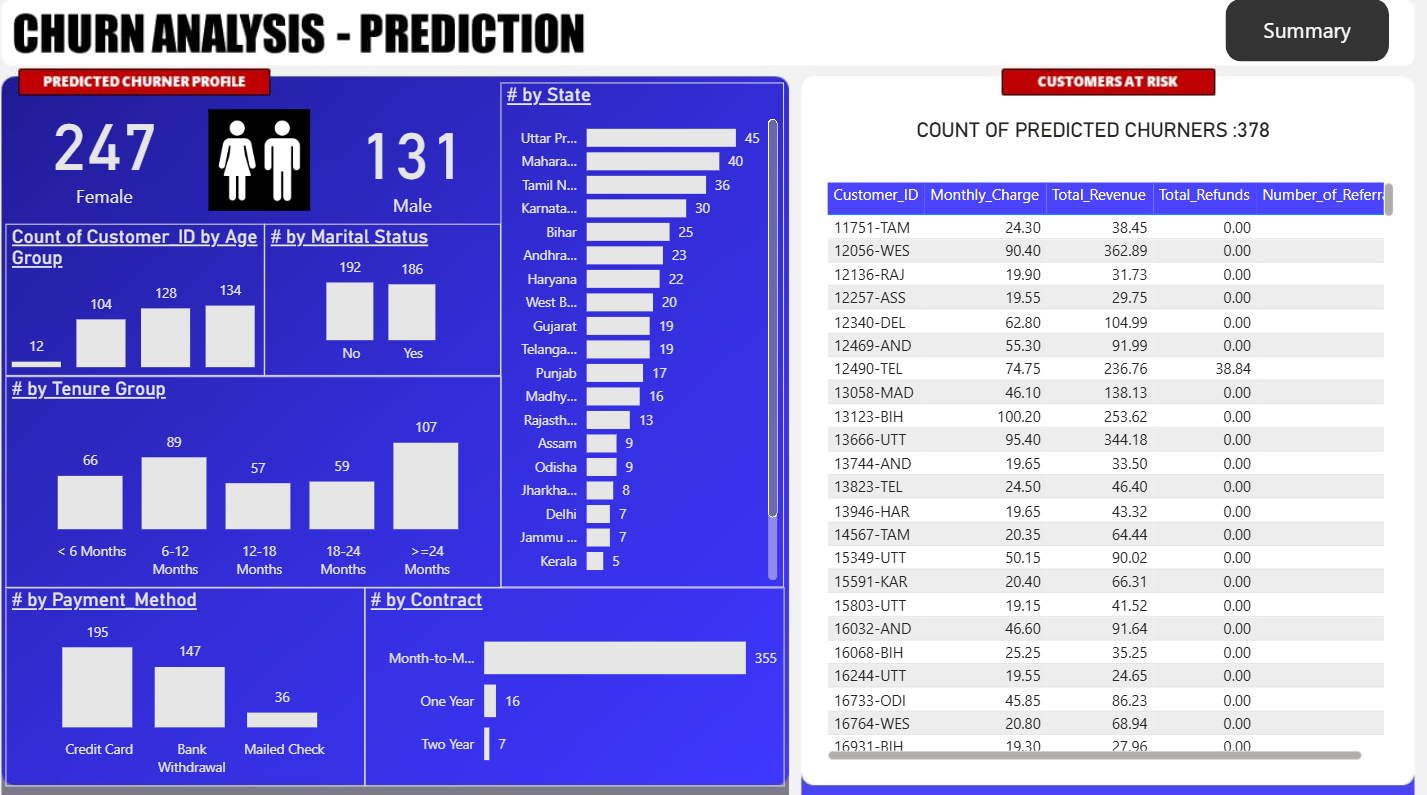

The page's visual inventory and layout, read from the dashboard file:
{"tool":"powerbi","page":{"name":"churn_prediction","canvas":[1280,720],"ordinal":1},"visuals":[{"type":"tableEx","fields":{"Values":["Prediction_data.Customer_ID","Prediction_data.Monthly_Charge","Prediction_data.Total_Revenue","Prediction_data.Total_Refunds","Prediction_data.Number_of_Referrals"]},"box":[725.6,151.2,544.2,553.5],"z":0},{"type":"card","fields":{"Values":["tbl_Measures.Title Predicted Churner"]},"box":[752.3,93,460.5,62.8],"z":1000},{"type":"card","fields":{"Values":["tbl_Measures.Count Predicted Churner"]},"box":[23.3,86,160.5,115.1],"z":2000},{"type":"card","fields":{"Values":["tbl_Measures.Count Predicted Churner"]},"box":[298.8,93,157,115.1],"z":3000},{"type":"clusteredColumnChart","fields":{"Category":["mapping_AgeGroup.Age Group"],"Y":["CountNonNull(Prediction_data.Customer_ID)"]},"box":[15.1,208.1,230.2,134.9],"z":4000},{"type":"clusteredColumnChart","fields":{"Y":["CountNonNull(Prediction_data.Customer_ID)"],"Category":["Prediction_data.Married"]},"box":[245.3,208.1,210.5,134.9],"z":5000},{"type":"clusteredColumnChart","fields":{"Y":["CountNonNull(Prediction_data.Customer_ID)"],"Category":["mapping_TenureGrp.Tenure Group"]},"box":[15.1,343,440.7,188.4],"z":6000},{"type":"clusteredColumnChart","fields":{"Y":["CountNonNull(Prediction_data.Customer_ID)"],"Category":["Prediction_data.Payment_Method"]},"box":[15.1,531.4,319.8,176.7],"z":7000},{"type":"clusteredBarChart","fields":{"Category":["Prediction_data.State"],"Y":["CountNonNull(Prediction_data.State)"]},"box":[455.8,82.6,252.3,448.8],"z":8000},{"type":"clusteredBarChart","fields":{"Category":["Prediction_data.Contract"],"Y":["CountNonNull(Prediction_data.Customer_ID)"]},"box":[334.9,531.4,373.3,176.7],"z":9000},{"type":"image","box":[91.3,101.2,300,100],"z":9001},{"type":"shape","box":[1100,8.1,145.3,55.8],"z":9002}]}

Visuals, with their boxes in screenshot pixels (x1, y1, x2, y2), scaled from the page's 1280x720 canvas onto the 1427x795 screenshot:
tableEx - Prediction_data.Customer_ID x Prediction_data.Monthly_Charge: (809, 167, 1416, 778)
card - tbl_Measures.Title Predicted Churner: (839, 103, 1352, 172)
card - tbl_Measures.Count Predicted Churner: (26, 95, 205, 222)
card - tbl_Measures.Count Predicted Churner: (333, 103, 508, 230)
clusteredColumnChart - mapping_AgeGroup.Age Group x CountNonNull(Prediction_data.Customer_ID): (17, 230, 273, 379)
clusteredColumnChart - CountNonNull(Prediction_data.Customer_ID) x Prediction_data.Married: (273, 230, 508, 379)
clusteredColumnChart - CountNonNull(Prediction_data.Customer_ID) x mapping_TenureGrp.Tenure Group: (17, 379, 508, 587)
clusteredColumnChart - CountNonNull(Prediction_data.Customer_ID) x Prediction_data.Payment_Method: (17, 587, 373, 782)
clusteredBarChart - Prediction_data.State x CountNonNull(Prediction_data.State): (508, 91, 789, 587)
clusteredBarChart - Prediction_data.Contract x CountNonNull(Prediction_data.Customer_ID): (373, 587, 790, 782)
image: (102, 112, 436, 222)
shape: (1226, 9, 1388, 71)
